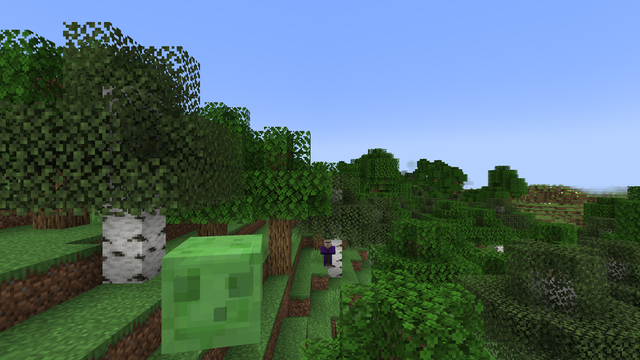slimes: (153, 232, 269, 349)
sorcieres: (323, 243, 332, 268)
